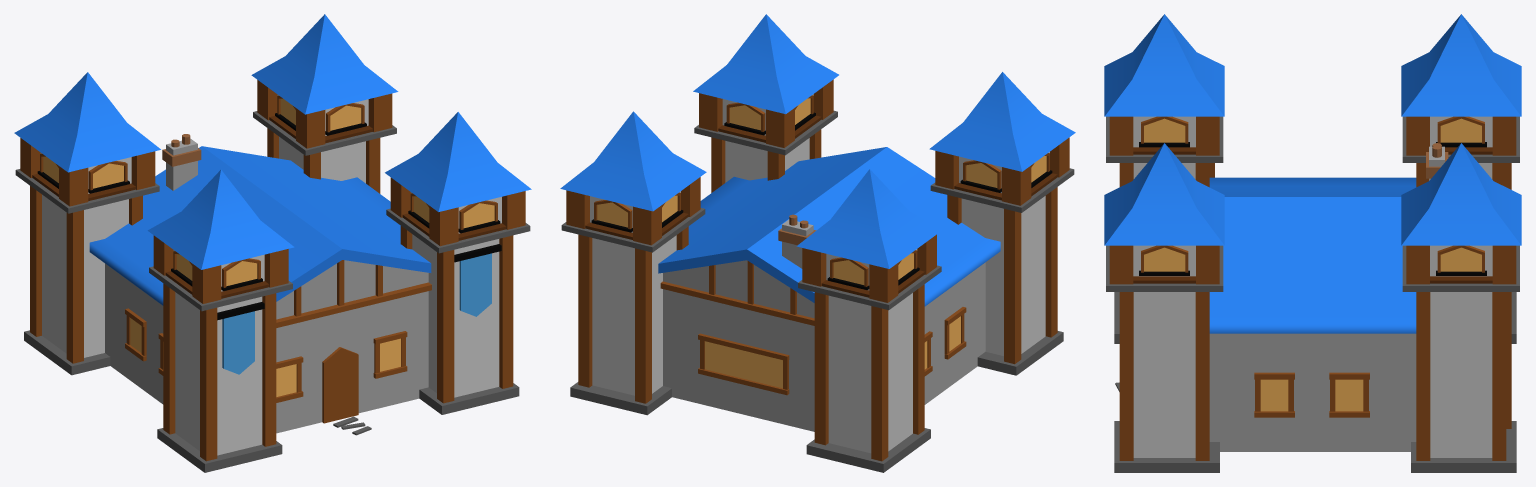
Rendered from Barracks.fbx.
The picture shows the model from 3 angles, left to right: view 1: azimuth 30°, elevation 25°; view 2: azimuth 150°, elevation 25°; view 3: azimuth 270°, elevation 25°; orthographic projection. The views are drawn at different scales.
Parts seen in each view (by area): view 1: polySurface637; view 2: polySurface637; view 3: polySurface637.
Part boxes in pixels (<box>): polySurface637: <box>14,14,531,472</box>; polySurface637: <box>560,14,1075,472</box>; polySurface637: <box>1104,14,1521,472</box>.
Bounding box in the file's own units: 5.73 × 4.6 × 5.62.
